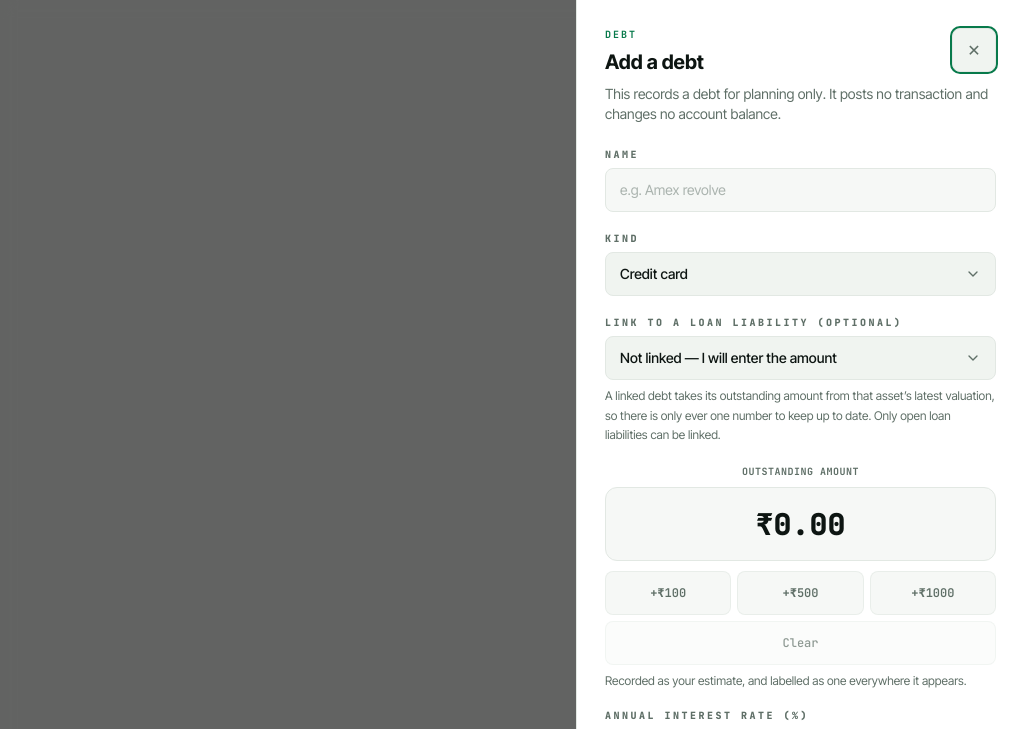
DebtFormSheet › offers only open loan liabilities in the link selector
Click the dropdown named "Linked loan liability": point(800, 358) [605, 336, 996, 380]
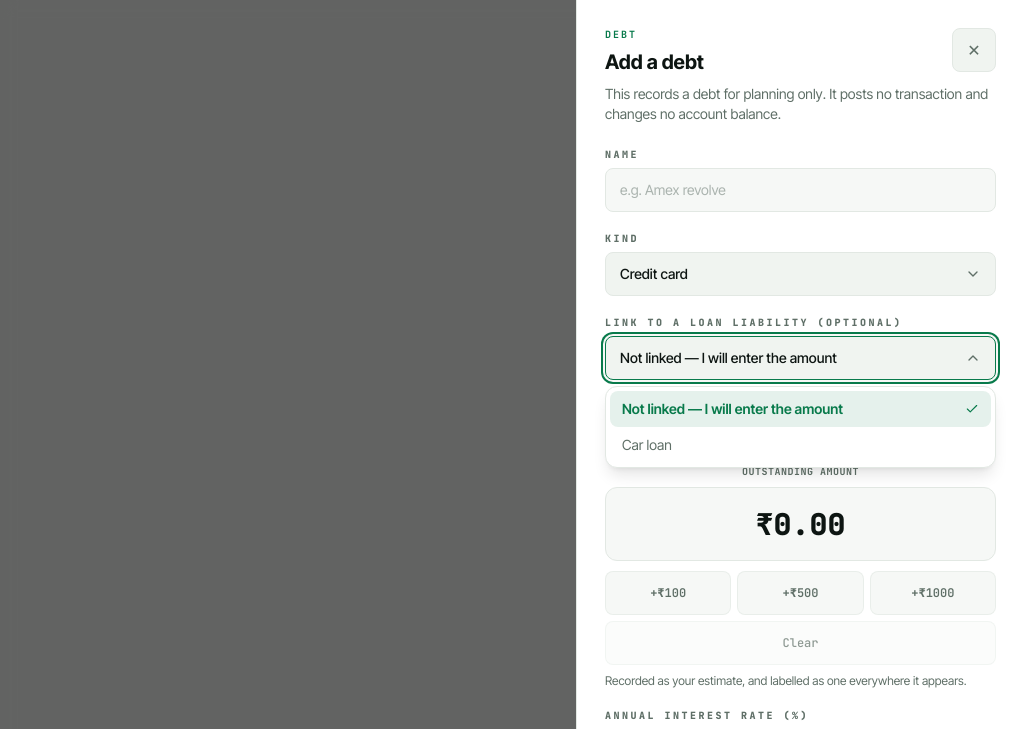
expect the option "Car loan" is shown: met, box [622, 436, 672, 453]
